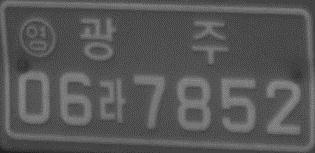0: (17, 69, 51, 126)
2: (265, 79, 301, 135)
5: (220, 77, 257, 133)
6: (58, 70, 93, 128)
7: (133, 73, 165, 130)
8: (176, 75, 212, 131)
광주_D: (78, 16, 229, 64)
라: (98, 76, 127, 125)
영: (18, 17, 57, 59)
